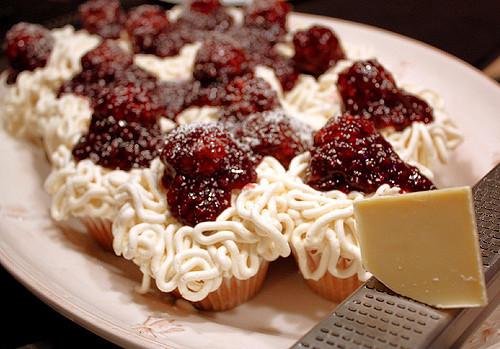plain spaghetti: (168, 221, 346, 248)
